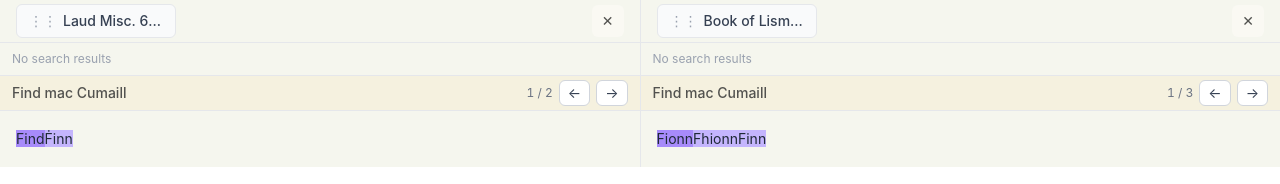
Test case: Tag Filter entity navigation › navigates one column's occurrences without moving another's
Click the button named "Next occurrence": (612, 93) [596,80,628,106]
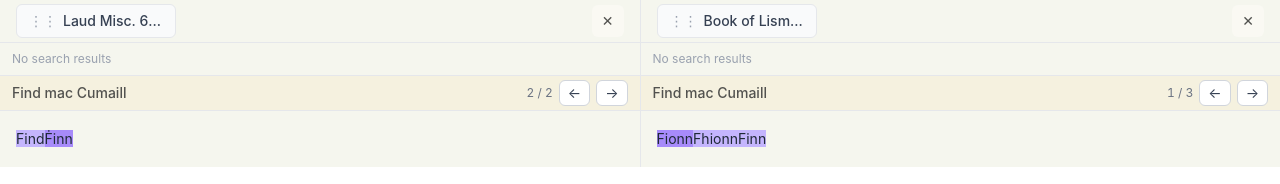
Check: the text "1 / 3" is shown, box [1167,85,1193,101]
Check: the text "2 / 2" is shown, box [526,85,553,101]
